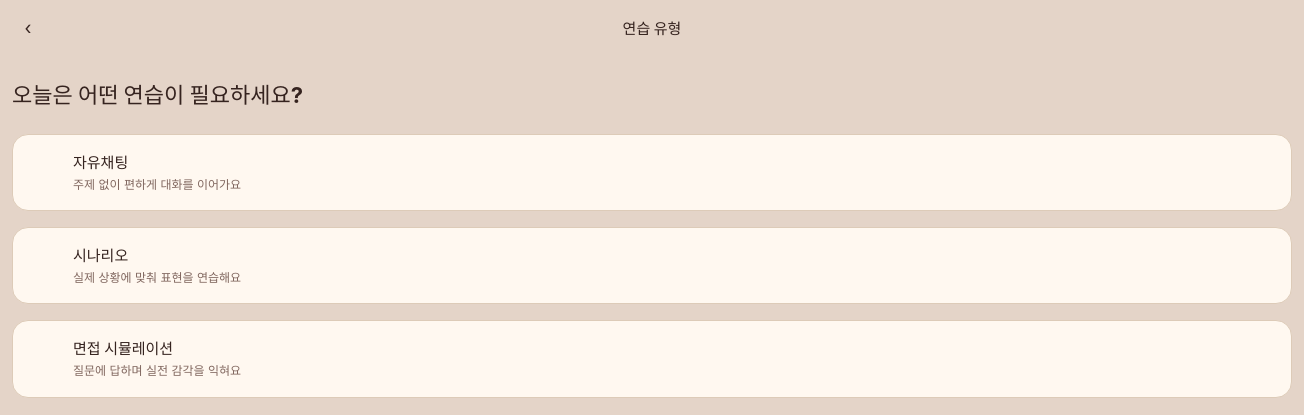
it: 시나리오 버튼을 누르면 즉시 H04 시나리오 화면으로 이동한다
The width and height of the screenshot is (1304, 415).
Click the button "시나리오 실제 상황에 맞춰 표현을 연습해요" at (101, 256), box [12,227,1292,304]
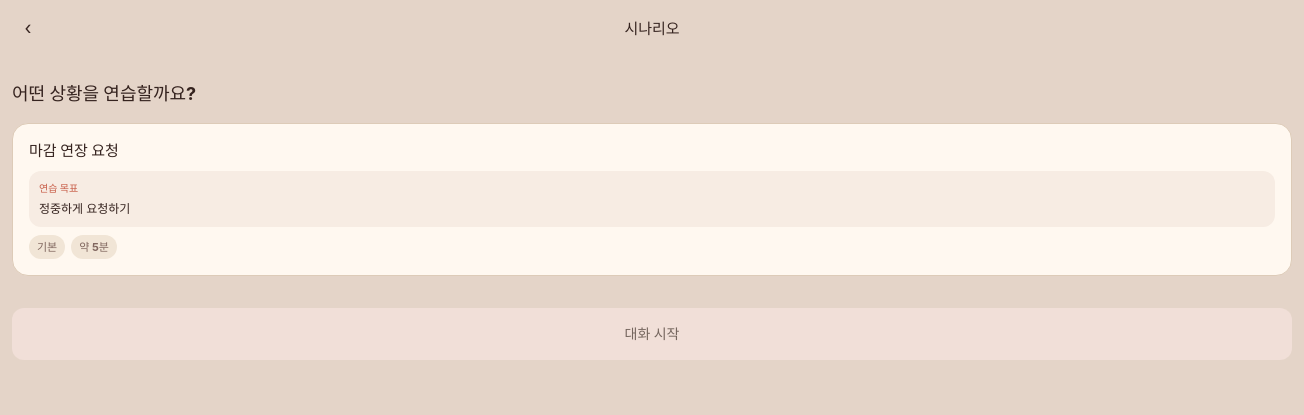
Now the heading "시나리오" is shown, box [624,16,680,40]
